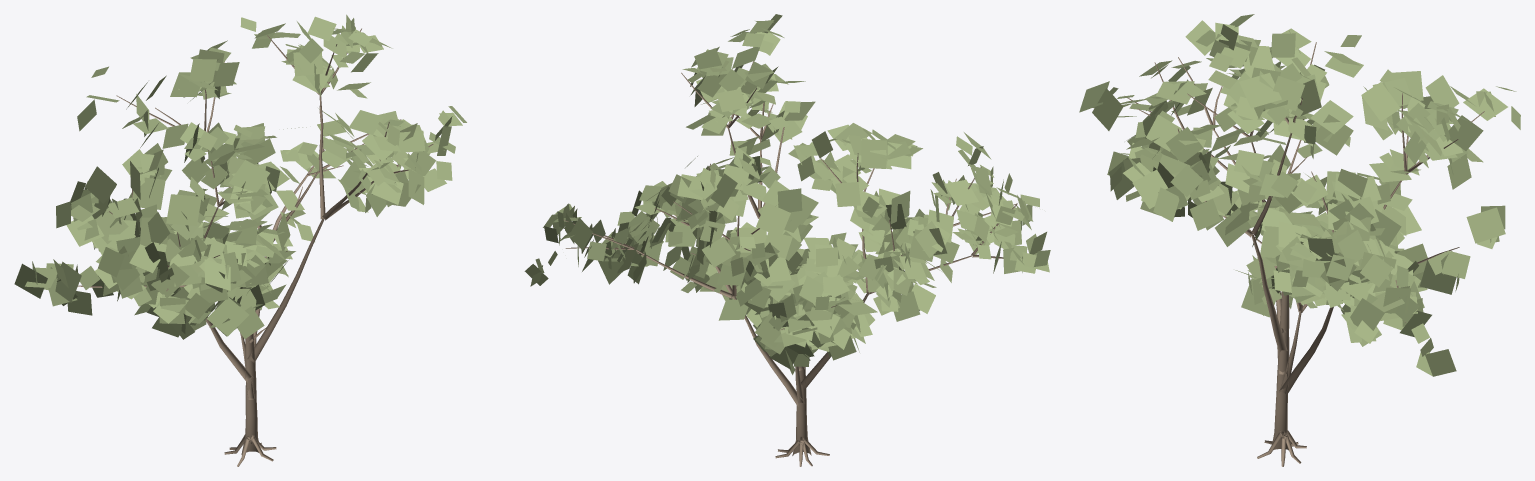
Rendered from tree-d.glb.
3 renders of one model, left to right at view 1: azimuth 30°, elevation 25°; view 2: azimuth 150°, elevation 25°; view 3: azimuth 270°, elevation 25°, orthographic. The views are drawn at different scales.
Parts seen in each view (by area): view 1: leafB, wood; view 2: leafB, wood; view 3: leafB, wood.
Boxes of the visible parts, <box> form: leafB: <box>14,14,466,339</box>; wood: <box>78,28,433,466</box>; leafB: <box>524,14,1050,374</box>; wood: <box>564,61,1017,466</box>; leafB: <box>1079,14,1520,376</box>; wood: <box>1124,42,1484,466</box>.
Size of the model in its own units: 10.72 by 9.21 by 7.89.
